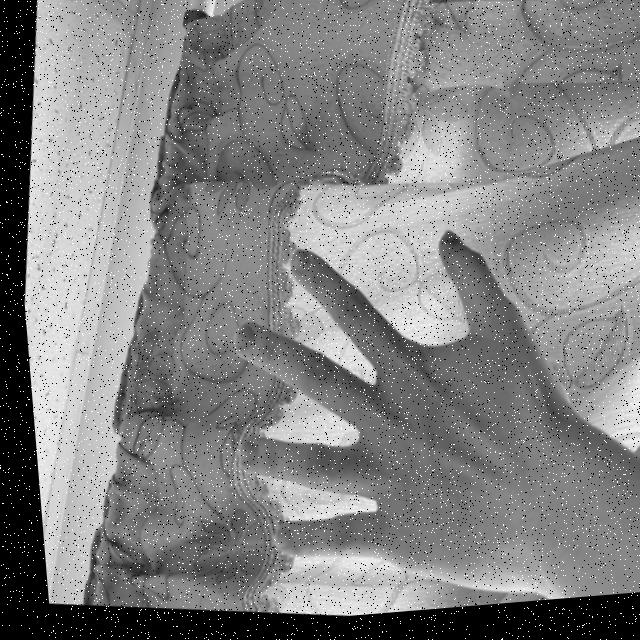hand: (187, 204, 593, 625)
